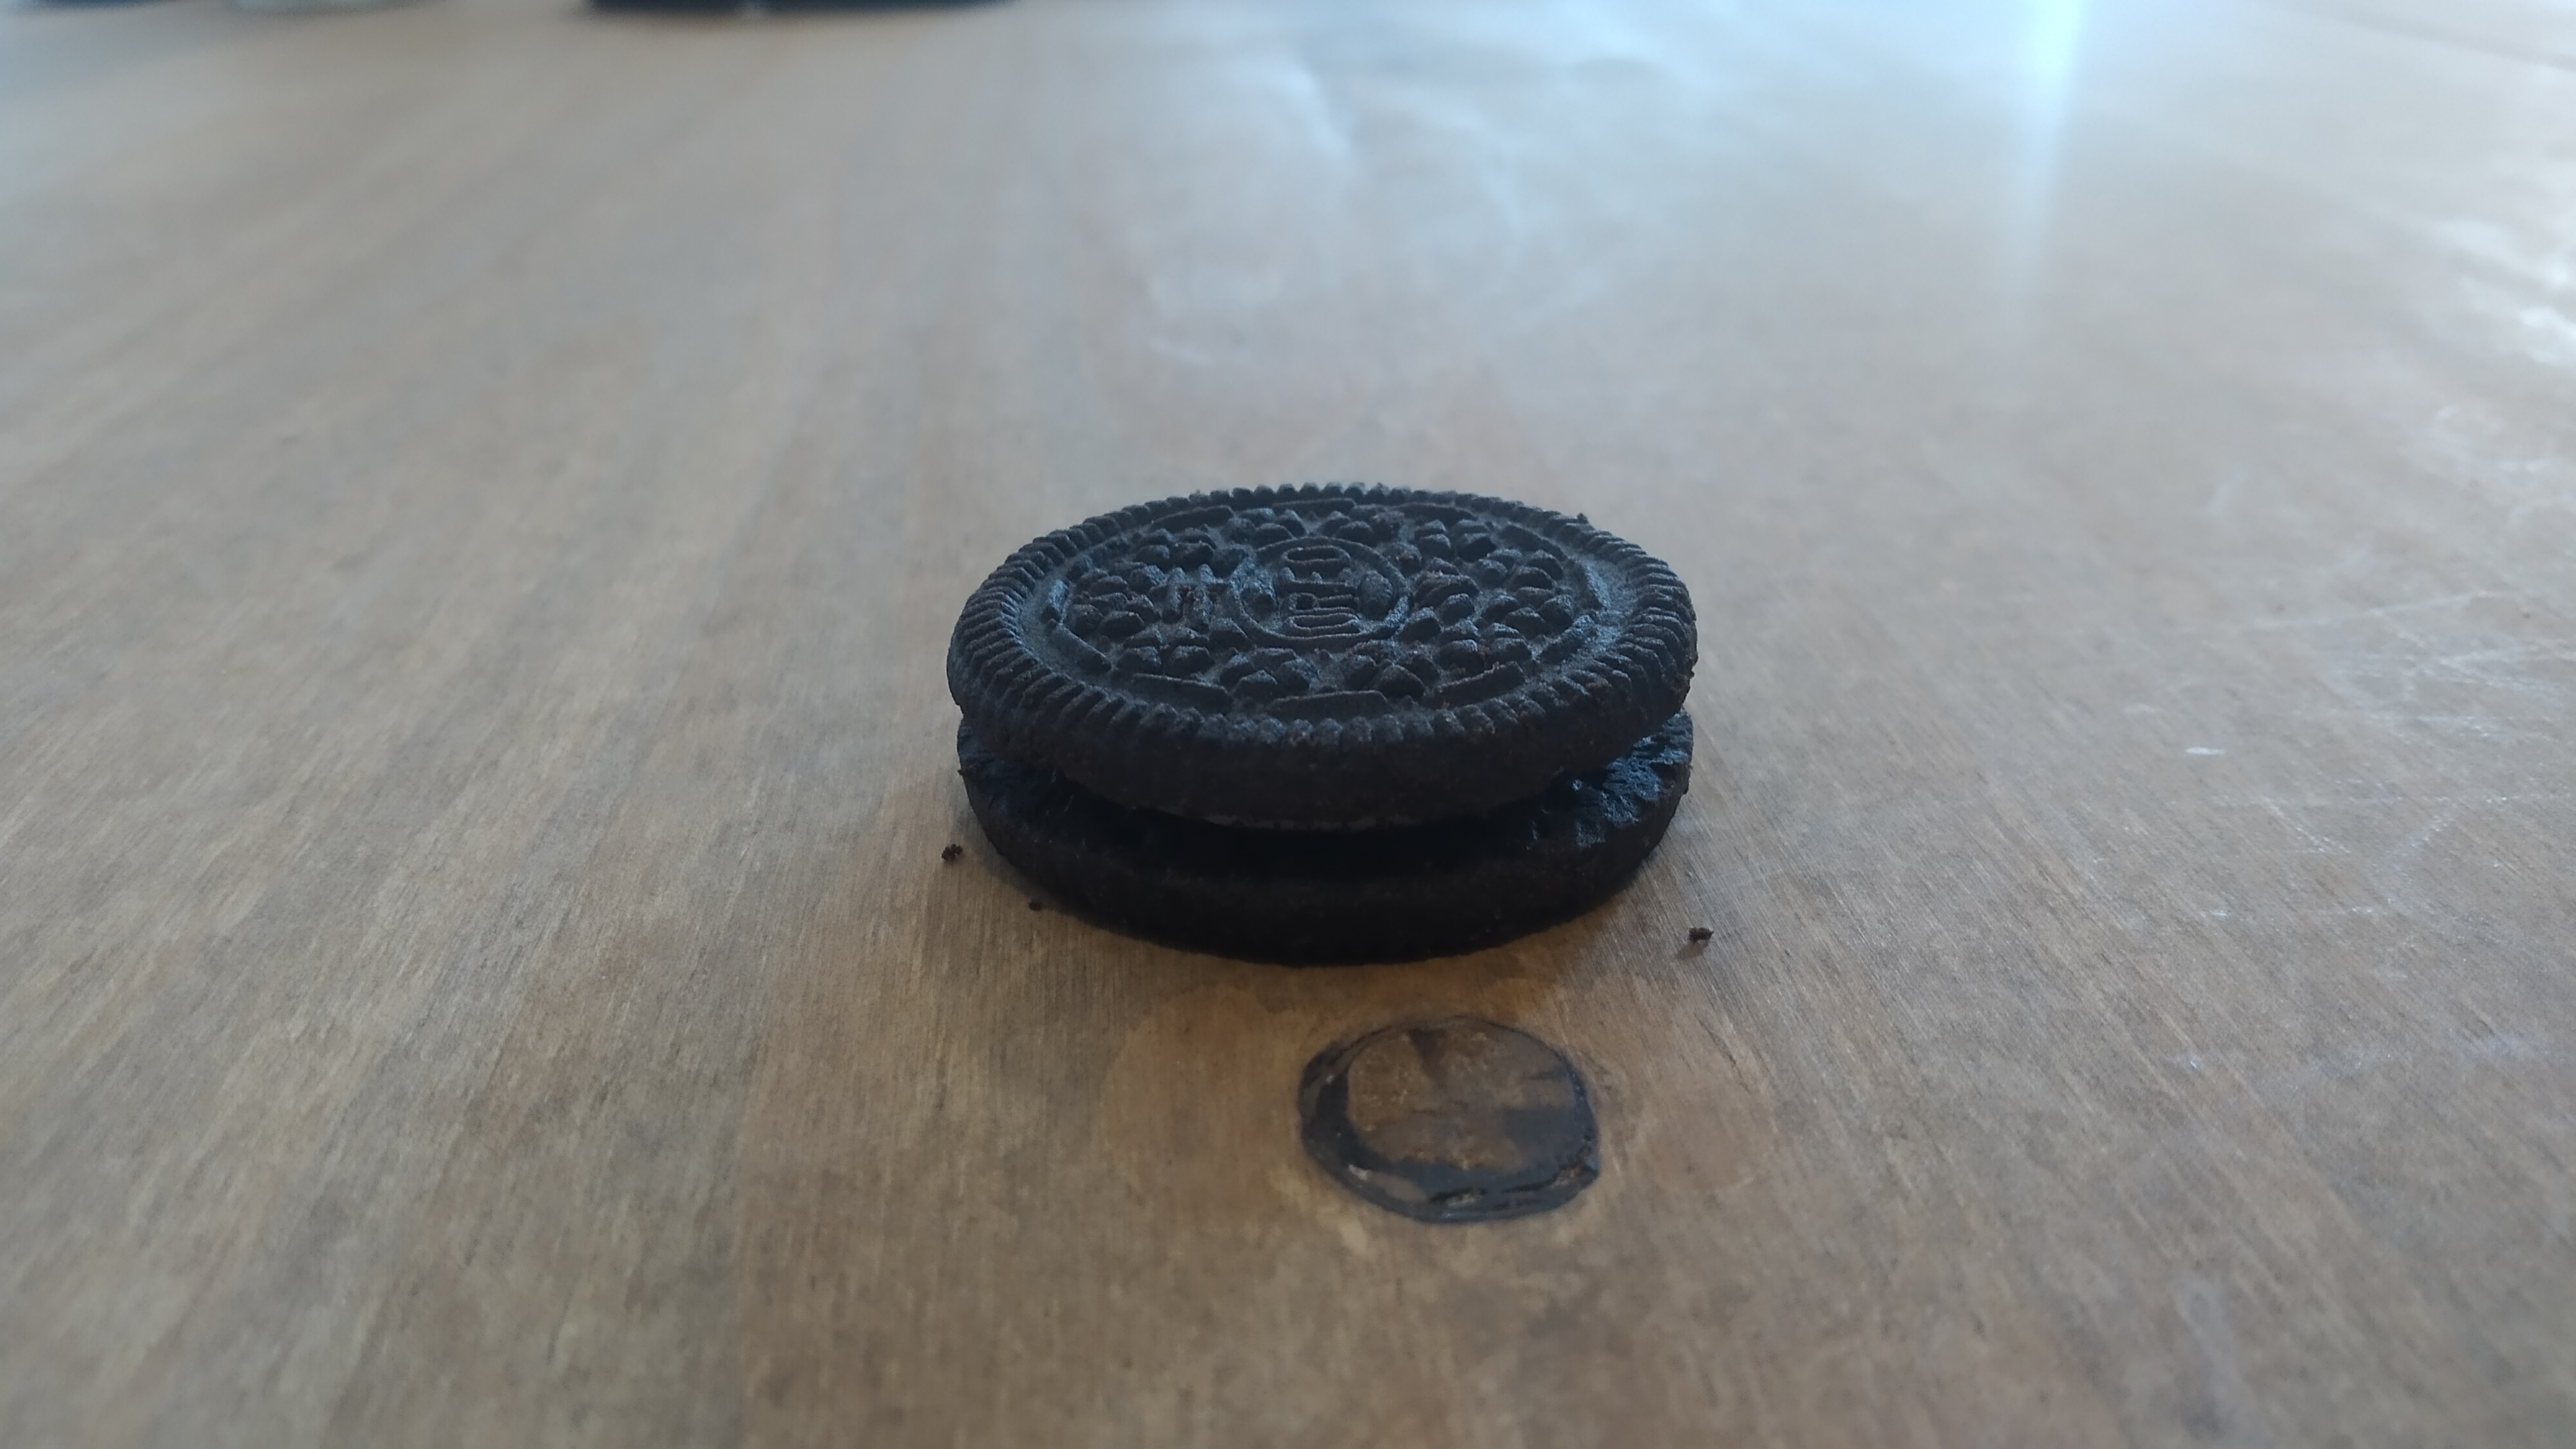oreo: (947, 485, 1700, 955)
